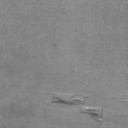finishing roll printing: (52, 92, 102, 122)
